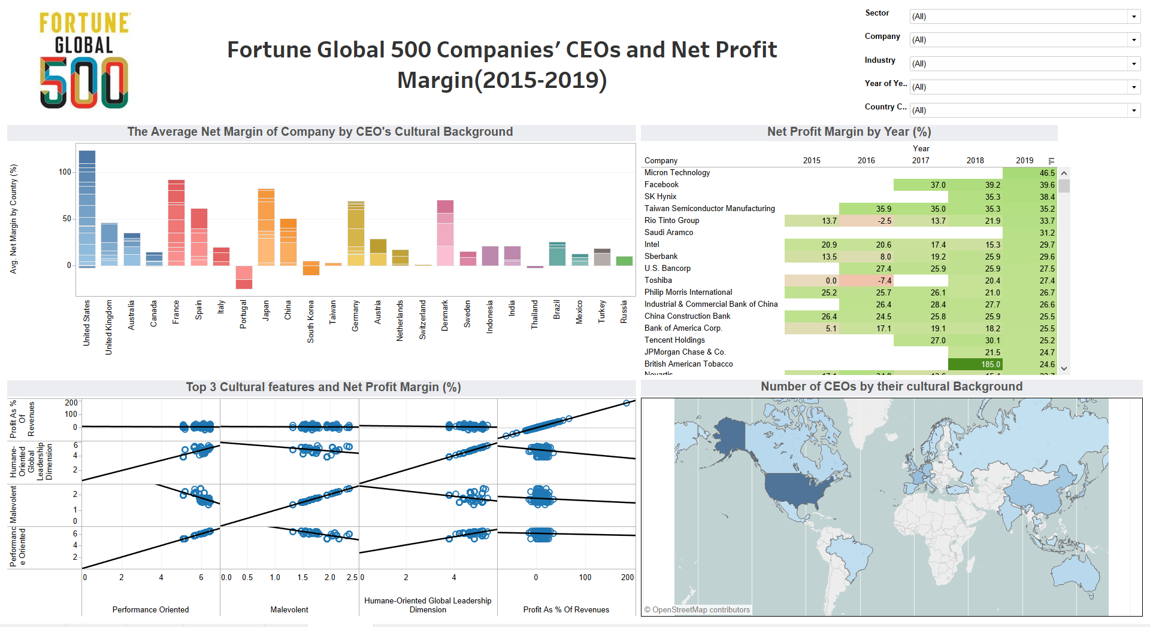

Layout of this report page (visuals, bound fields, positions):
{"tool":"tableau","page":{"name":"Dashboard","canvas":[1000,1000],"units":"permille","ordinal":0},"visuals":[{"type":"blank","box":[4.8,9.3,19.3,187.8]},{"type":"image","param":"C:/Users/Jeeho/Desktop/fg500.jpg","box":[24.1,9.3,99.6,187.8]},{"type":"text","box":[123.7,9.3,625.8,187.8]},{"type":"filter","title":"CEO-Country","param":"[federated.0t1g1d51bw1h5h0zkaf2r1p0zq7w].[none:sector:nk]","box":[749.4,9.3,245.8,37.6]},{"type":"filter","title":"Net Margin","param":"[federated.0t1g1d51bw1h5h0zkaf2r1p0zq7w].[none:company:nk]","box":[749.4,46.9,245.8,37.6]},{"type":"filter","title":"CEO-Country","param":"[federated.0t1g1d51bw1h5h0zkaf2r1p0zq7w].[none:industry:nk]","box":[749.4,84.4,245.8,37.6]},{"type":"filter","title":"CEO-Country","param":"[federated.0t1g1d51bw1h5h0zkaf2r1p0zq7w].[yr:year:ok]","box":[749.4,122,245.8,37.6]},{"type":"filter","title":"Scatter Plot","param":"[federated.0t1g1d51bw1h5h0zkaf2r1p0zq7w].[none:Country Cluster:nk]","box":[749.4,159.5,245.8,37.6]},{"type":"worksheet","title":"Net Margin (Bar)","mark":"Automatic","rows":["profit_as_%_of_revenues"],"cols":["country"],"box":[4.8,197.1,550.2,408.2]},{"type":"worksheet","title":"Net Margin","mark":"Square","rows":["company"],"cols":["year"],"box":[555.1,197.1,440.1,407.8]},{"type":"worksheet","title":"CEO-Country","mark":"Multipolygon","box":[555.1,604.9,440.1,385.8]},{"type":"worksheet","title":"Scatter Plot","mark":"Automatic","rows":["profit_as_%_of_revenues","Humane-Oriented Global Leadership Dimension","Malevolent","Performance Oriented"],"cols":["Performance Oriented","Malevolent","Humane-Oriented Global Leadership Dimension","profit_as_%_of_revenues"],"box":[4.8,605.4,550.2,385.4]}]}

Visuals, with their boxes on the dashboard's canvas, which has no fixed pixel size, in thousandths of its width and height (x1, y1, x2, y2). These are canvas units, not pixel positions in the 1150x627 screenshot, which may show the page scaled, cropped or inside an application window:
blank: 5/9/24/197
image: 24/9/124/197
text: 124/9/750/197
"CEO-Country" filter: 749/9/995/47
"Net Margin" filter: 749/47/995/84
"CEO-Country" filter: 749/84/995/122
"CEO-Country" filter: 749/122/995/160
"Scatter Plot" filter: 749/160/995/197
"Net Margin (Bar)" worksheet: 5/197/555/605
"Net Margin" worksheet (Square marks): 555/197/995/605
"CEO-Country" worksheet (Multipolygon marks): 555/605/995/991
"Scatter Plot" worksheet: 5/605/555/991
